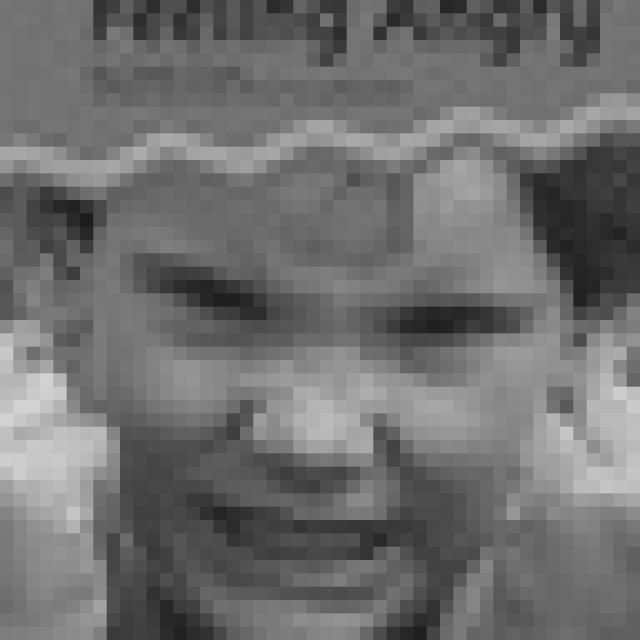angry: (135, 248, 540, 601)
